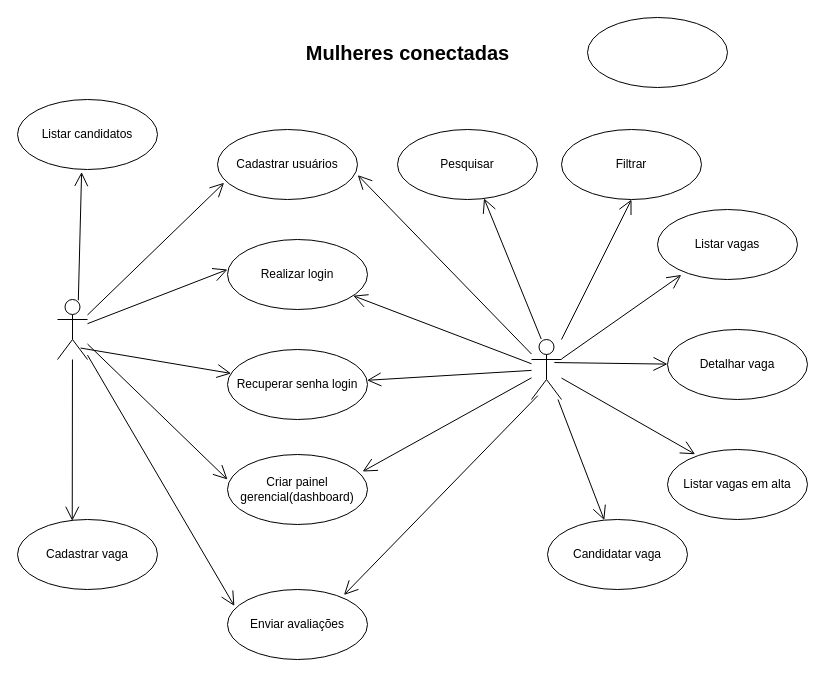
Some shapes in this 825 by 677 pixel diagram are drawn without their labels. The centre of each missing label's shape, as x and y in pixels:
Candidato: (546,369)
Criar landing page: (657,52)
Recrutador: (72,329)
